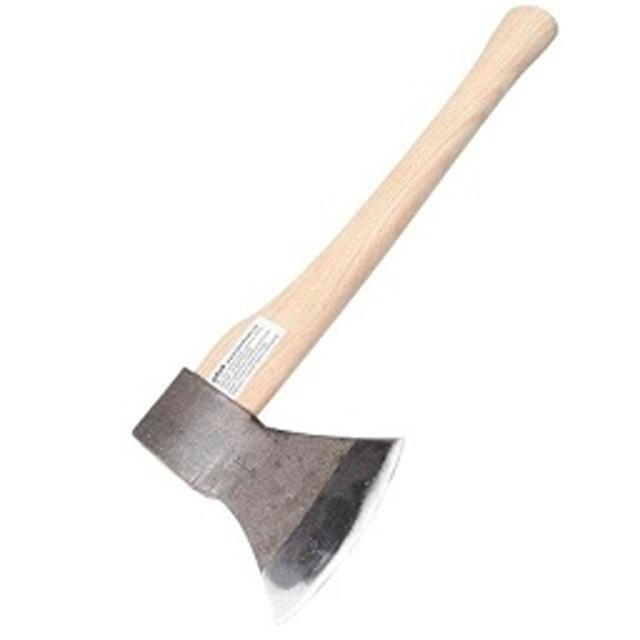ax: (120, 2, 569, 636)
